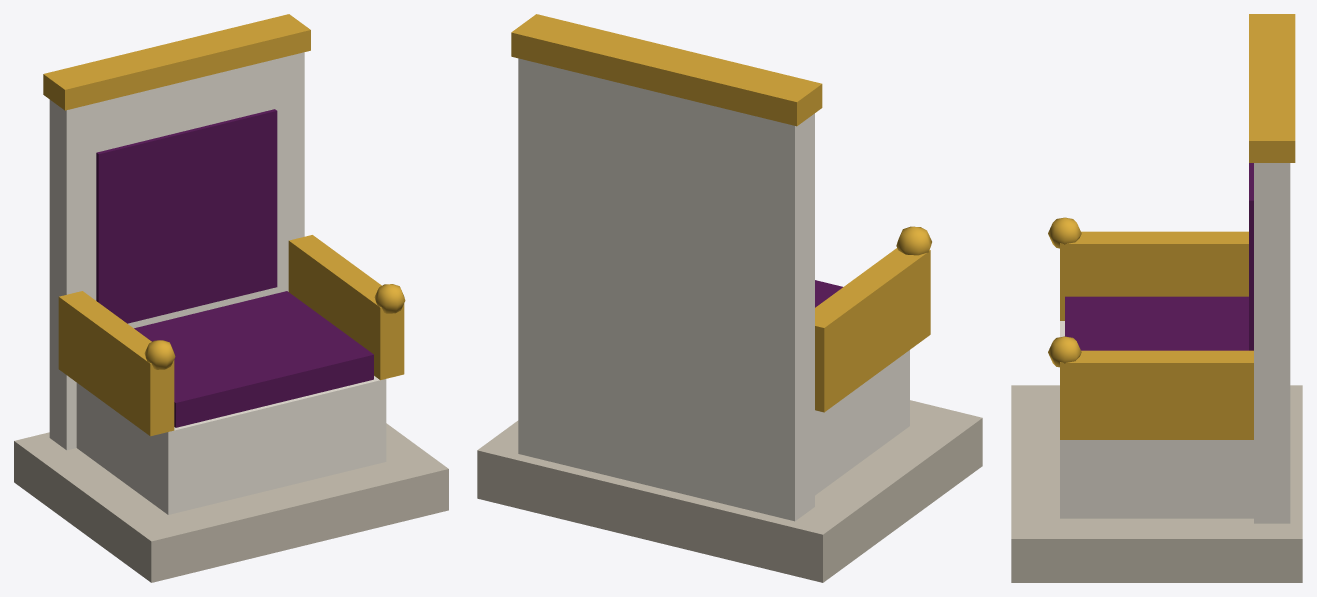
Rendered from im_throne.glb.
The picture shows the model from 3 angles, left to right: view 1: azimuth 30°, elevation 25°; view 2: azimuth 150°, elevation 25°; view 3: azimuth 270°, elevation 25°; orthographic projection. The views are drawn at different scales.
Parts seen in each view (by area): view 1: im_throne; view 2: im_throne; view 3: im_throne.
Part boxes in pixels (x1=…): im_throne: x1=14, y1=14, x2=448, y2=582; im_throne: x1=477, y1=14, x2=982, y2=582; im_throne: x1=1011, y1=14, x2=1302, y2=582.
Size of the model in its own units: 1.5 by 1.95 by 1.2.
